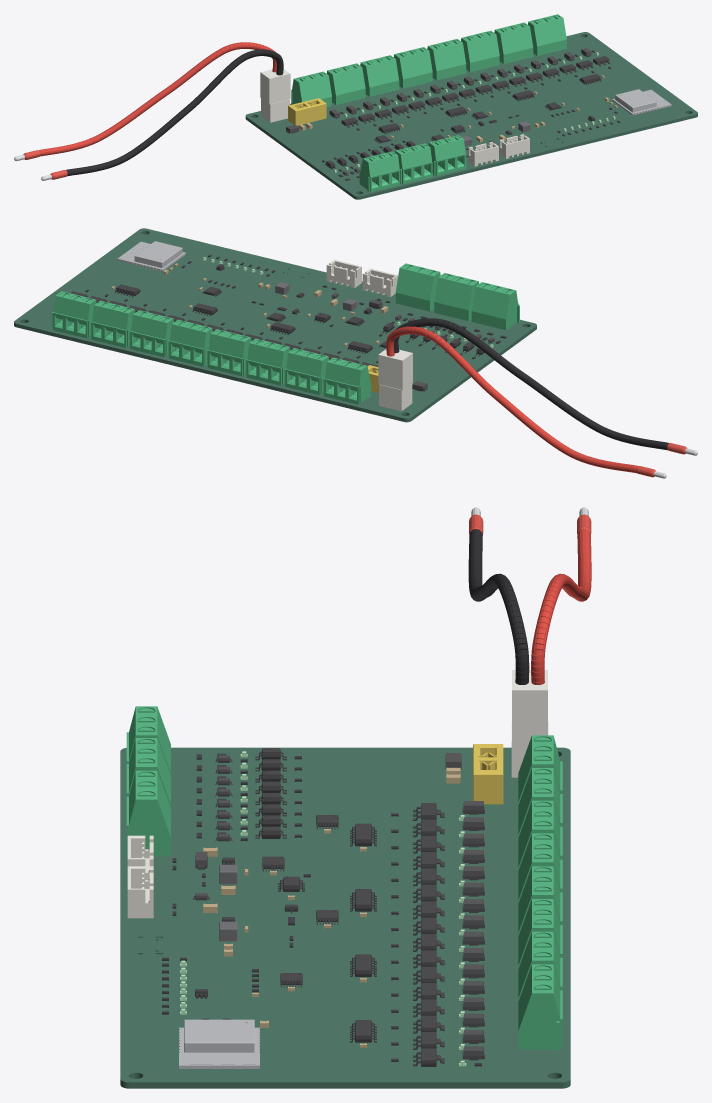
Rendered from AP_RACK16_CABLE24V.glb.
3 views of the same model, one above another, from view 1: azimuth 30°, elevation 25°; view 2: azimuth 150°, elevation 25°; view 3: azimuth 270°, elevation 25° (orthographic). The views are drawn at different scales.
Visible parts, largest first — view 1: =>[0:1:1:25]_aa5bc9, aislante_negativo, aislante_positivo, =>[0:1:1:25], carcasa_VH, J7, J9_f8156b, J12_edbf9f, J13_a7a58a, J8_06408d, J10_4f560a, J11_f02348 (+13 smaller); view 2: =>[0:1:1:25]_aa5bc9, aislante_positivo, aislante_negativo, =>[0:1:1:25]_d6aea6, carcasa_VH, J4, J5_e73171, J3_b9e395, cabecera_VH, J8_31c125, J11_d74037, J7_3fb2e0 (+12 smaller); view 3: =>[0:1:1:25]_aa5bc9, =>[0:1:1:25]_3f6f07, aislante_negativo, aislante_positivo, carcasa_VH, J13_7d411e, J5_d62b50, U3_4615f9, U3_5c0bae, F1.
Boxes of the visible parts, bbox=[...] form: =>[0:1:1:25]_aa5bc9: bbox=[245, 32, 697, 196]; aislante_negativo: bbox=[66, 49, 283, 176]; aislante_positivo: bbox=[39, 42, 276, 156]; =>[0:1:1:25]: bbox=[360, 114, 695, 199]; carcasa_VH: bbox=[260, 69, 290, 104]; J7: bbox=[332, 65, 365, 95]; J9_f8156b: bbox=[399, 51, 432, 79]; J12_edbf9f: bbox=[500, 26, 533, 54]; J13_a7a58a: bbox=[534, 18, 566, 46]; J8_06408d: bbox=[366, 59, 398, 87]; J10_4f560a: bbox=[433, 42, 466, 70]; J11_f02348: bbox=[467, 34, 499, 62]; =>[0:1:1:25]_aa5bc9: bbox=[14, 228, 536, 418]; aislante_positivo: bbox=[386, 326, 637, 473]; aislante_negativo: bbox=[394, 318, 669, 450]; =>[0:1:1:25]_d6aea6: bbox=[16, 324, 404, 421]; carcasa_VH: bbox=[378, 349, 412, 389]; J4: bbox=[434, 277, 472, 310]; J5_e73171: bbox=[395, 268, 433, 300]; J3_b9e395: bbox=[472, 286, 509, 319]; cabecera_VH: bbox=[379, 383, 412, 411]; J8_31c125: bbox=[247, 343, 283, 367]; J11_d74037: bbox=[131, 314, 167, 339]; J7_3fb2e0: bbox=[286, 352, 322, 377]; =>[0:1:1:25]_aa5bc9: bbox=[120, 747, 570, 1082]; =>[0:1:1:25]_3f6f07: bbox=[129, 1082, 561, 1088]; aislante_negativo: bbox=[468, 529, 529, 684]; aislante_positivo: bbox=[531, 529, 591, 684]; carcasa_VH: bbox=[512, 670, 547, 741]; J13_7d411e: bbox=[518, 993, 562, 1049]; J5_d62b50: bbox=[126, 799, 170, 855]; U3_4615f9: bbox=[185, 1019, 253, 1042]; U3_5c0bae: bbox=[179, 1027, 259, 1065]; F1: bbox=[474, 748, 502, 804].
Bounding box in the file's own units: 0.292 × 0.0413 × 0.1046.
